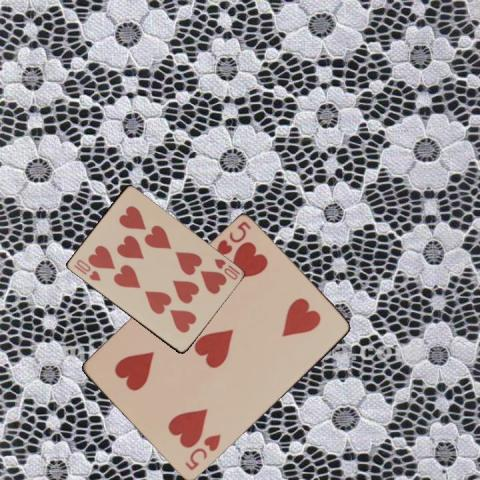10h: (211, 255, 241, 282), (71, 256, 102, 282)
5h: (181, 431, 223, 473), (212, 218, 253, 258)
